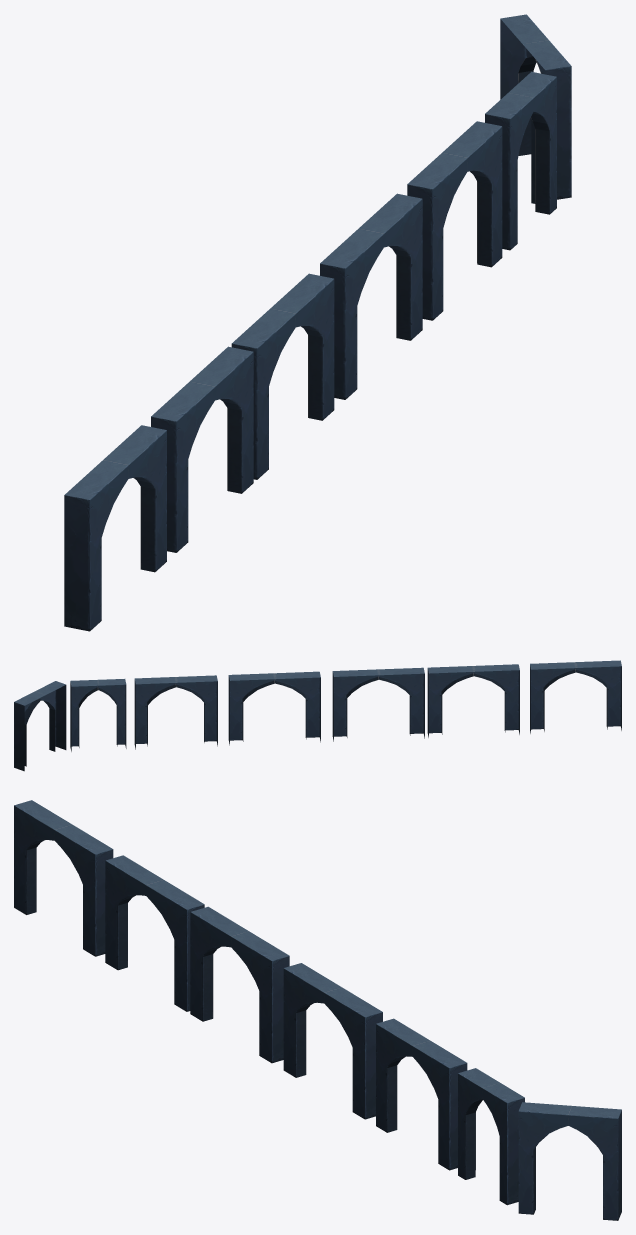
Rendered from Area_08_1.fbx.
3 renders of one model, top to bottom at view 1: azimuth 30°, elevation 25°; view 2: azimuth 150°, elevation 25°; view 3: azimuth 270°, elevation 25°, orthographic. The views are drawn at different scales.
Visible parts, largest first — view 1: Area_08_1; view 2: Area_08_1; view 3: Area_08_1.
Part boxes in pixels (x1,y1,x2,y2): Area_08_1: (64,14,571,631); Area_08_1: (14,660,621,771); Area_08_1: (14,800,621,1220).
Size of the model in its own units: 4370 by 654 by 3525.
